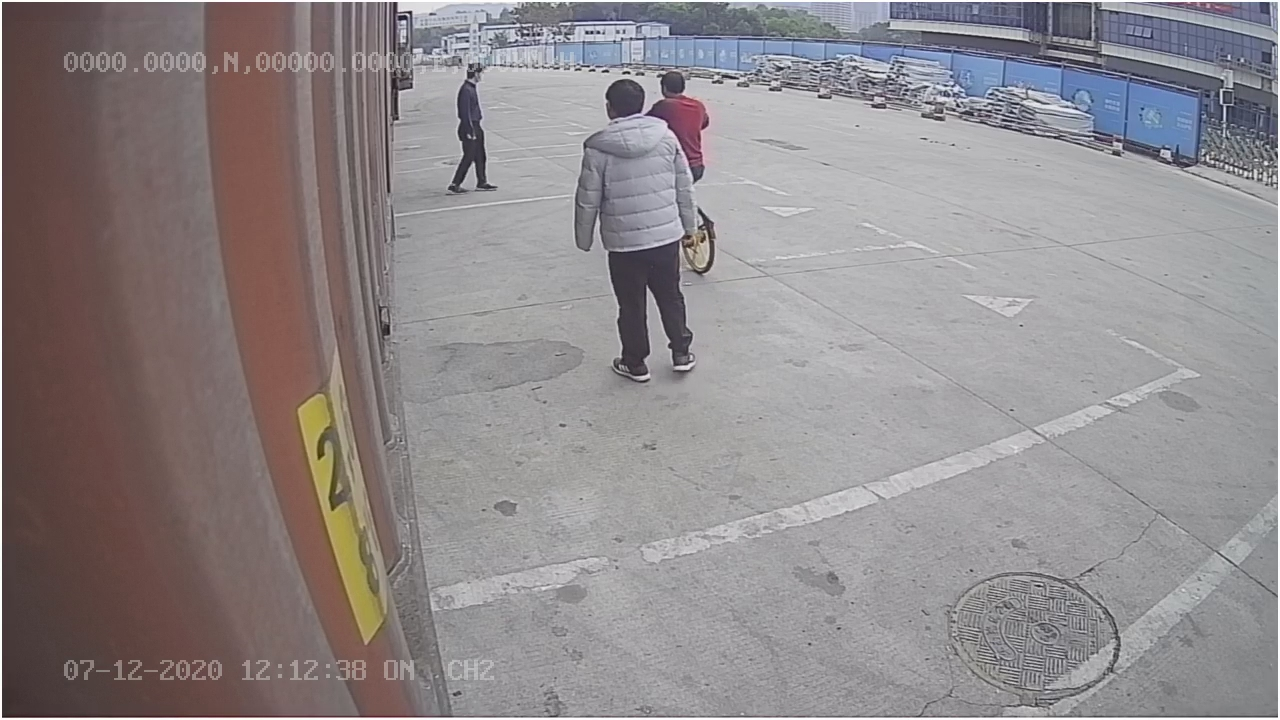person: (573, 79, 702, 384)
